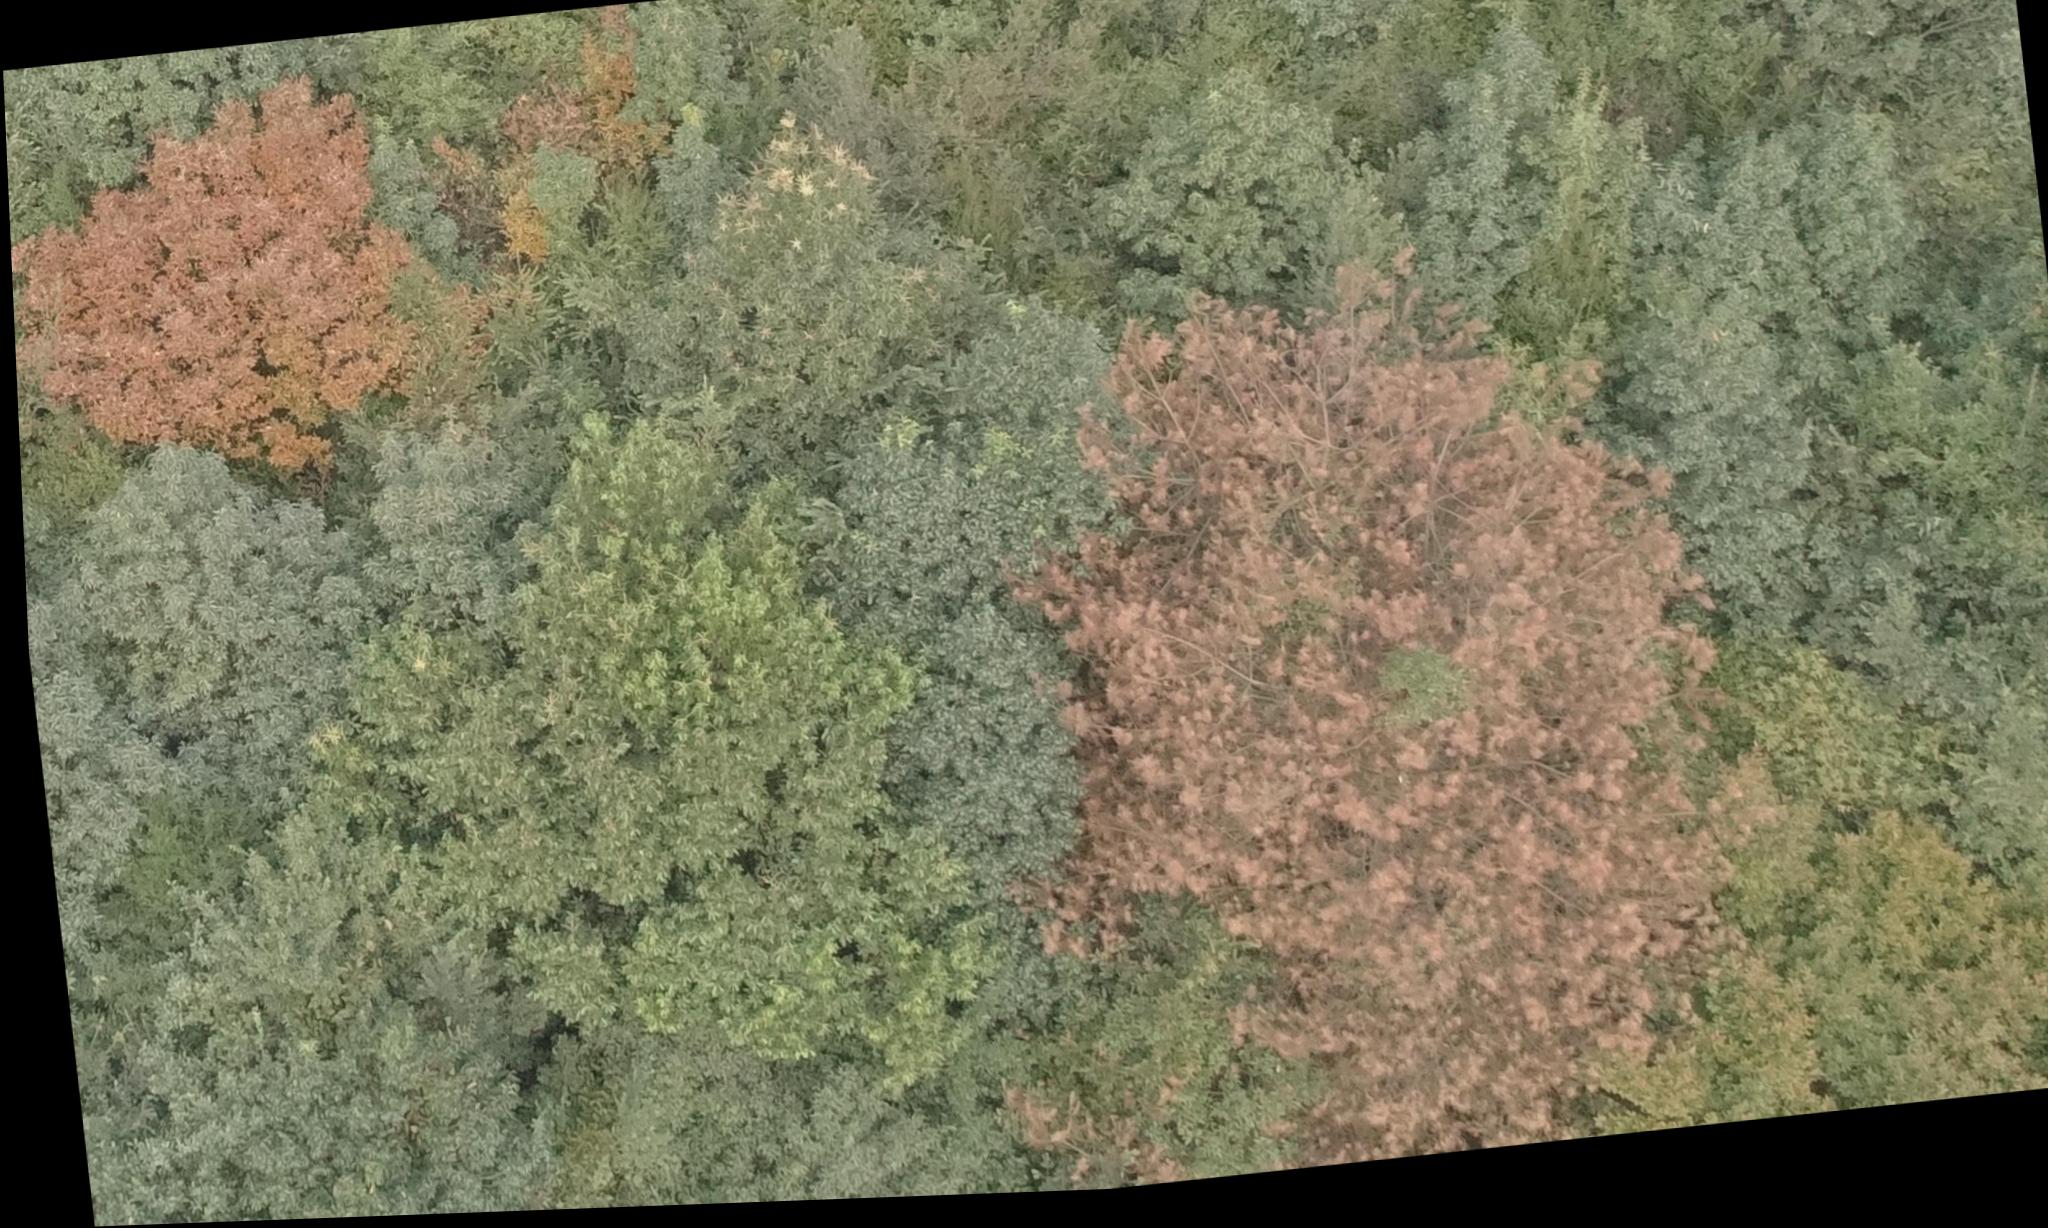heavy: (1010, 234, 1734, 1136)
